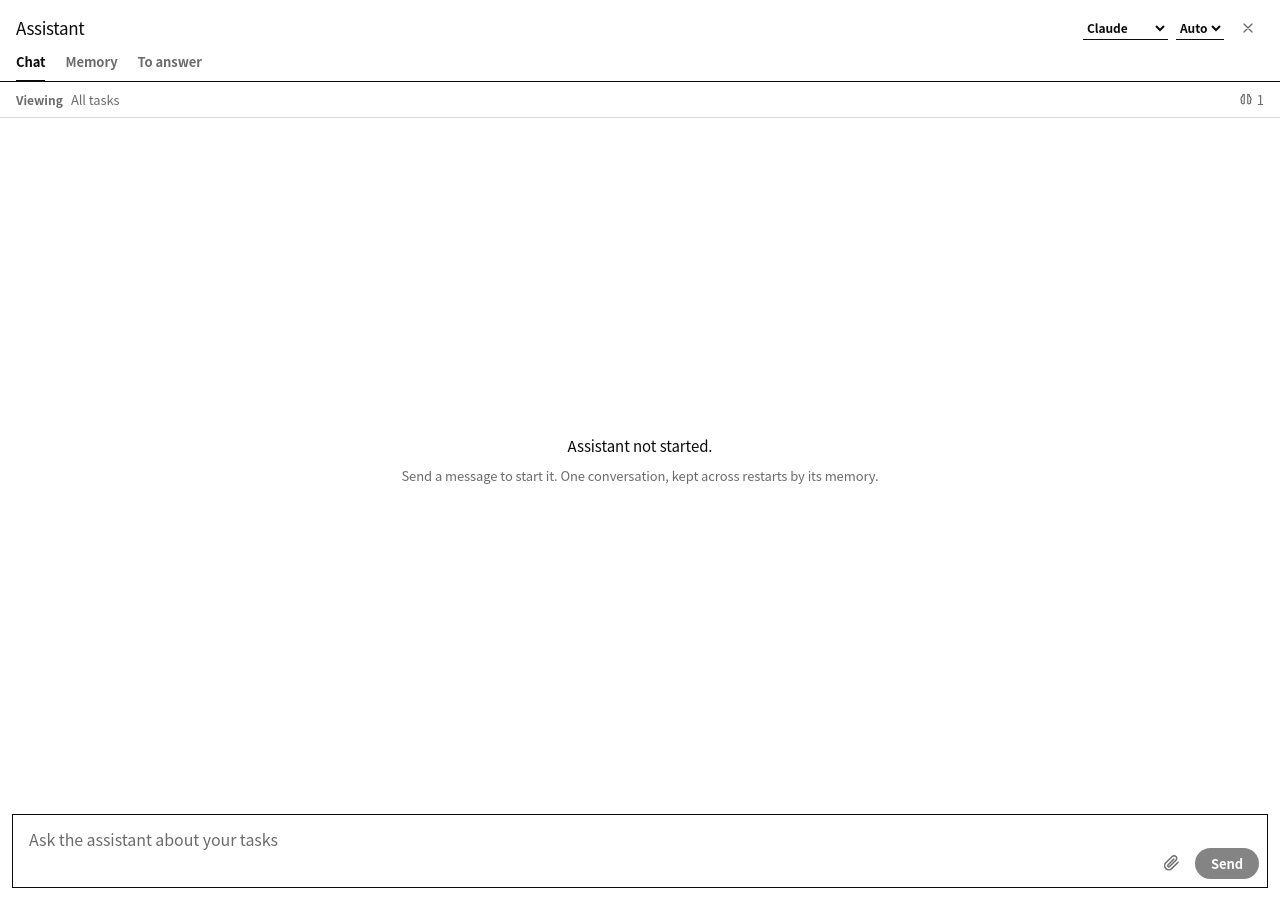
Test: AssistantPanel › shows a failed delete instead of dropping it
Click the tab "Memory". click: (92, 63)
box: x1=65 y1=44 x2=118 y2=82
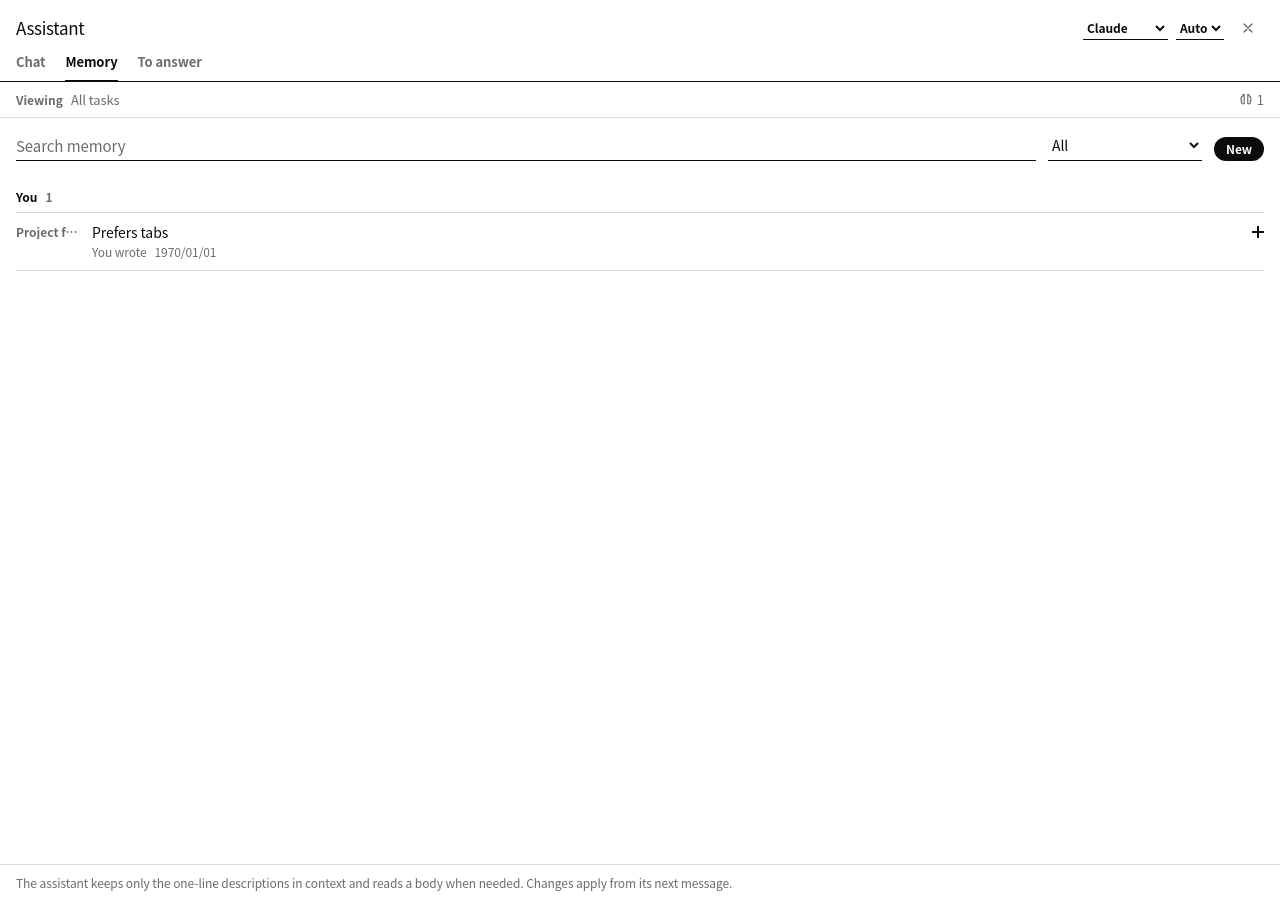
Click the button "Project fact Prefers tabs You wrote 1970/01/01". click: (50, 232)
box: x1=16 y1=212 x2=1264 y2=270
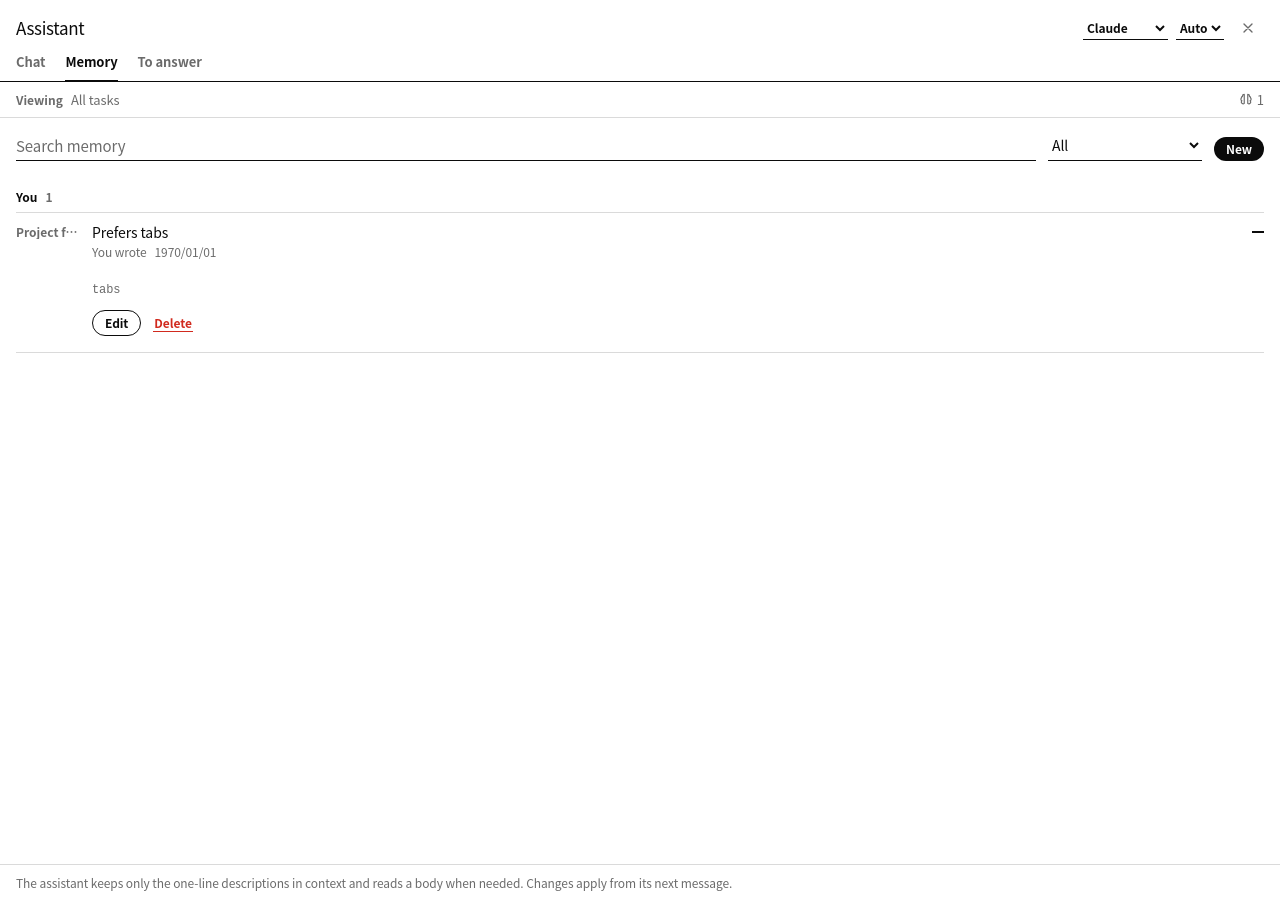
Click the button "Delete". click: (173, 323)
box: x1=153 y1=314 x2=193 y2=332
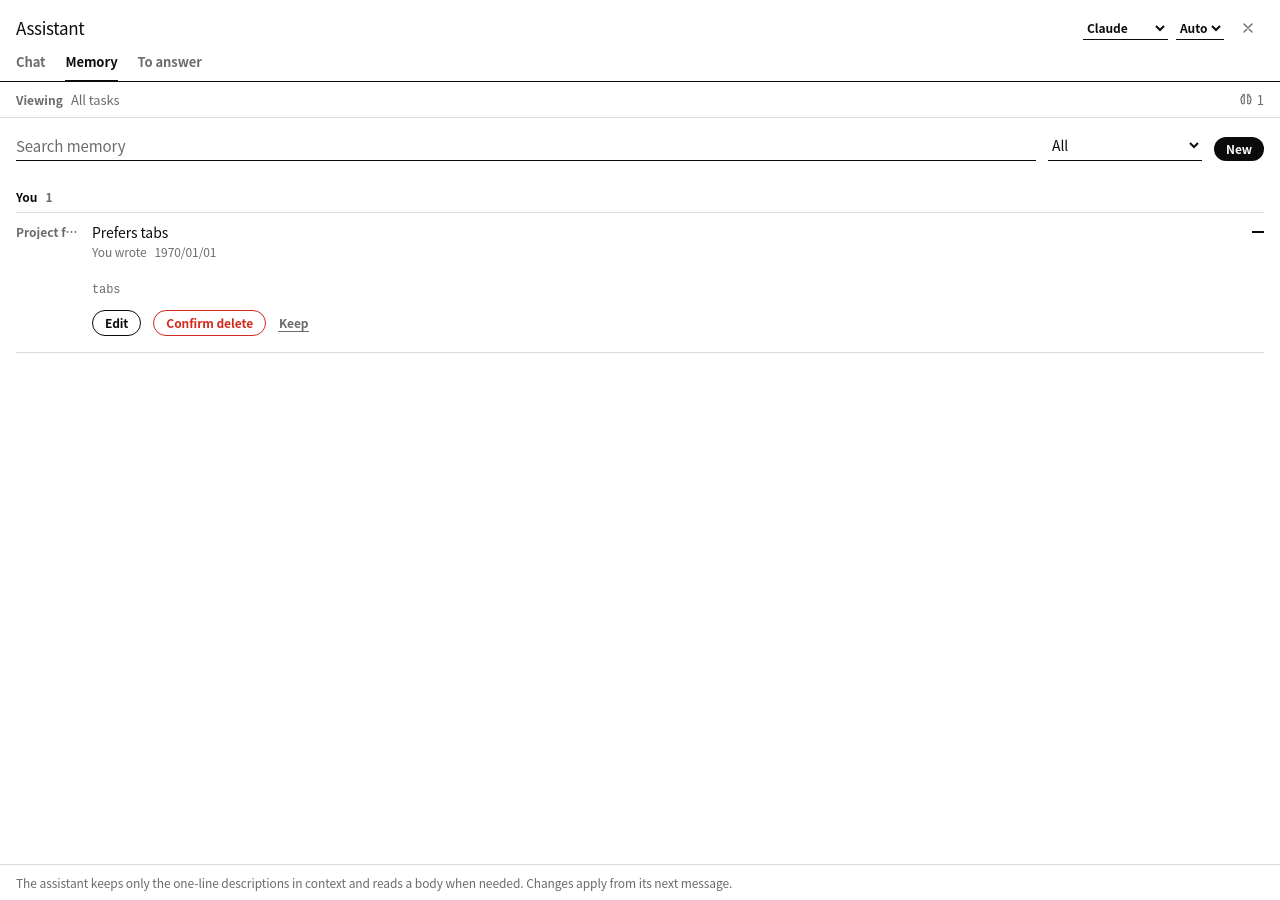
Click the button "Confirm delete". click: (210, 323)
box: x1=153 y1=310 x2=266 y2=336
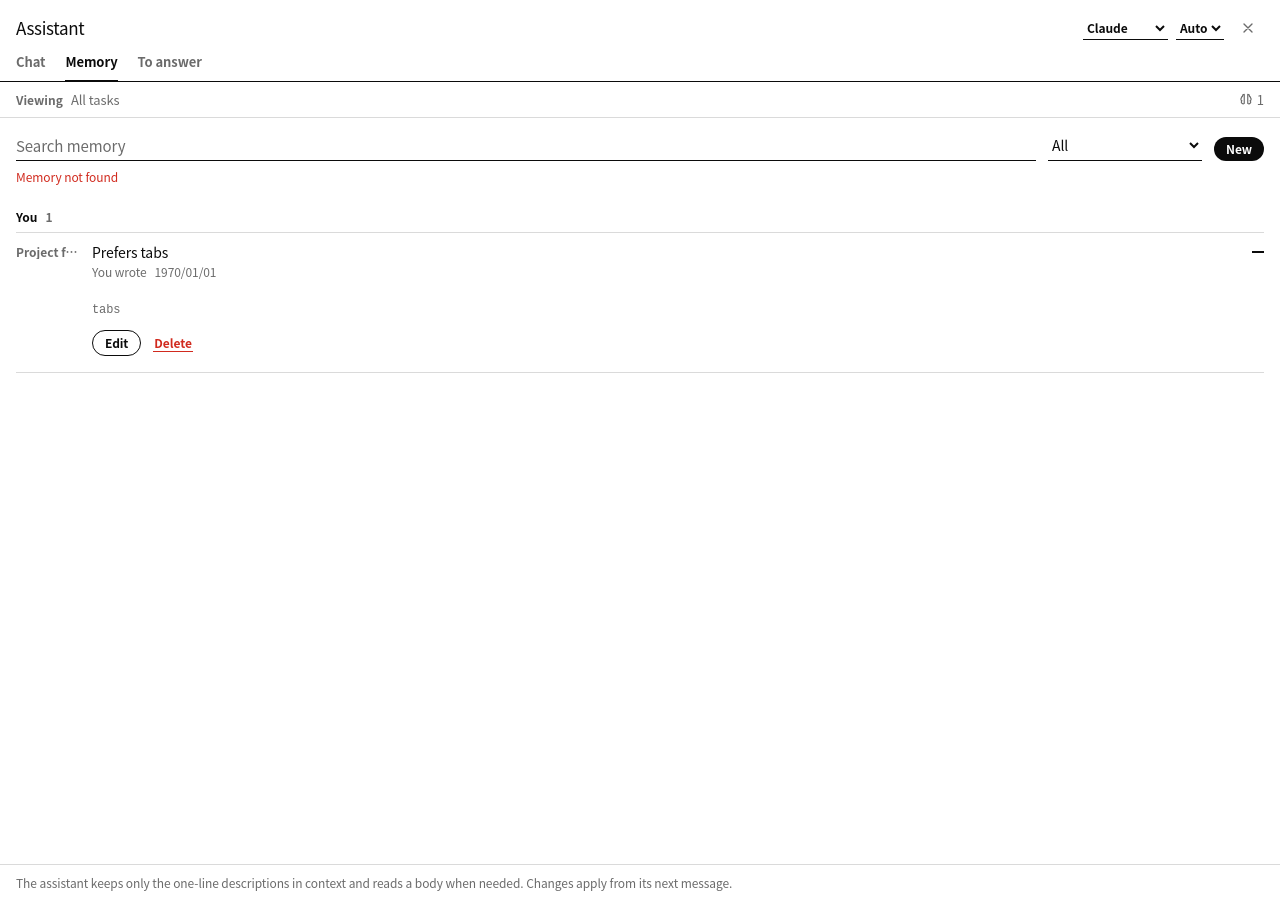
expect the message reads "Memory not found": met, box x1=16 y1=168 x2=118 y2=185
